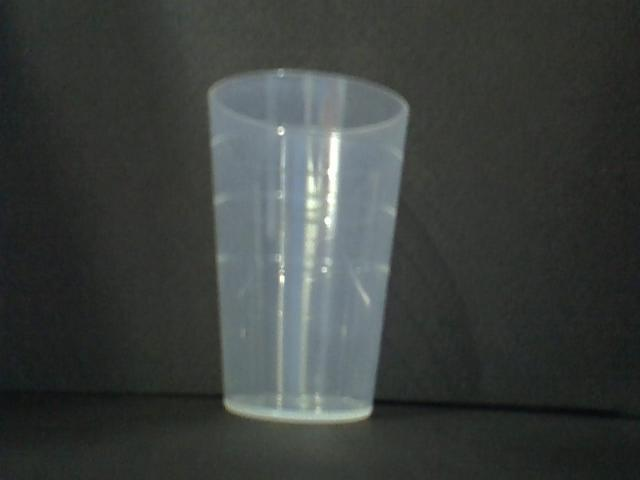cup: (204, 70, 412, 427)
